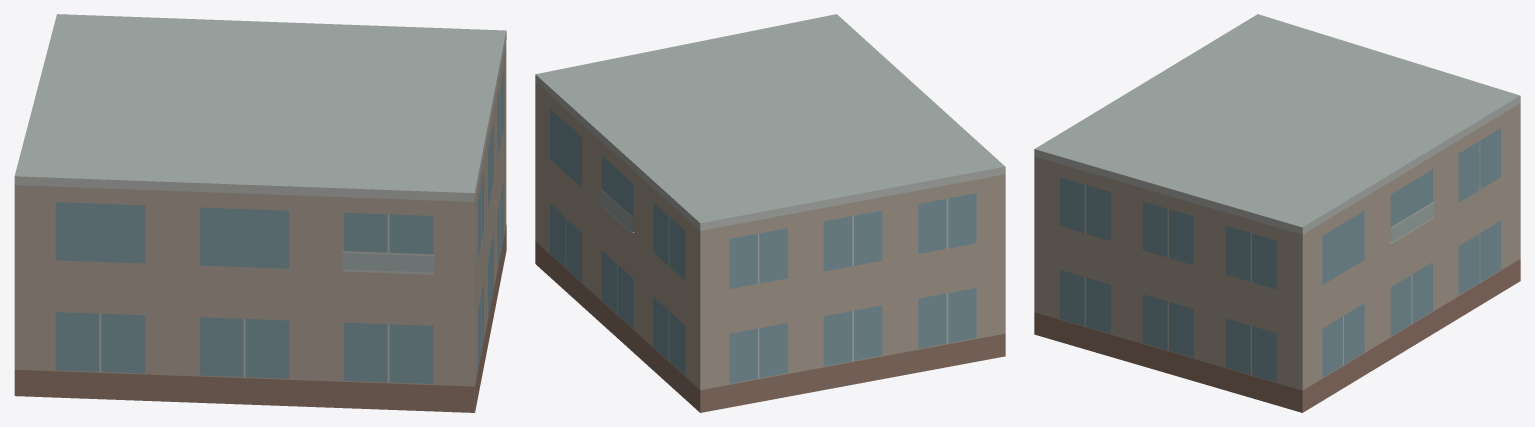
The model's file is survey-upis-32618159.glb.
3 renders of one model, left to right at view 1: azimuth 30°, elevation 25°; view 2: azimuth 150°, elevation 25°; view 3: azimuth 270°, elevation 25°, orthographic. The views are drawn at different scales.
Visible parts, largest first — view 1: survey-upis-32618159.tmp; view 2: survey-upis-32618159.tmp; view 3: survey-upis-32618159.tmp.
Part boxes in pixels (<box>): survey-upis-32618159.tmp: <box>14,14,506,412</box>; survey-upis-32618159.tmp: <box>535,14,1005,412</box>; survey-upis-32618159.tmp: <box>1034,14,1520,412</box>.
Size of the model in its own units: 15.07 by 6.1 by 14.5.
